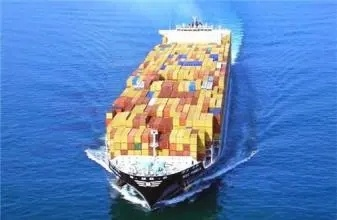Cargoship: (103, 12, 235, 204)
